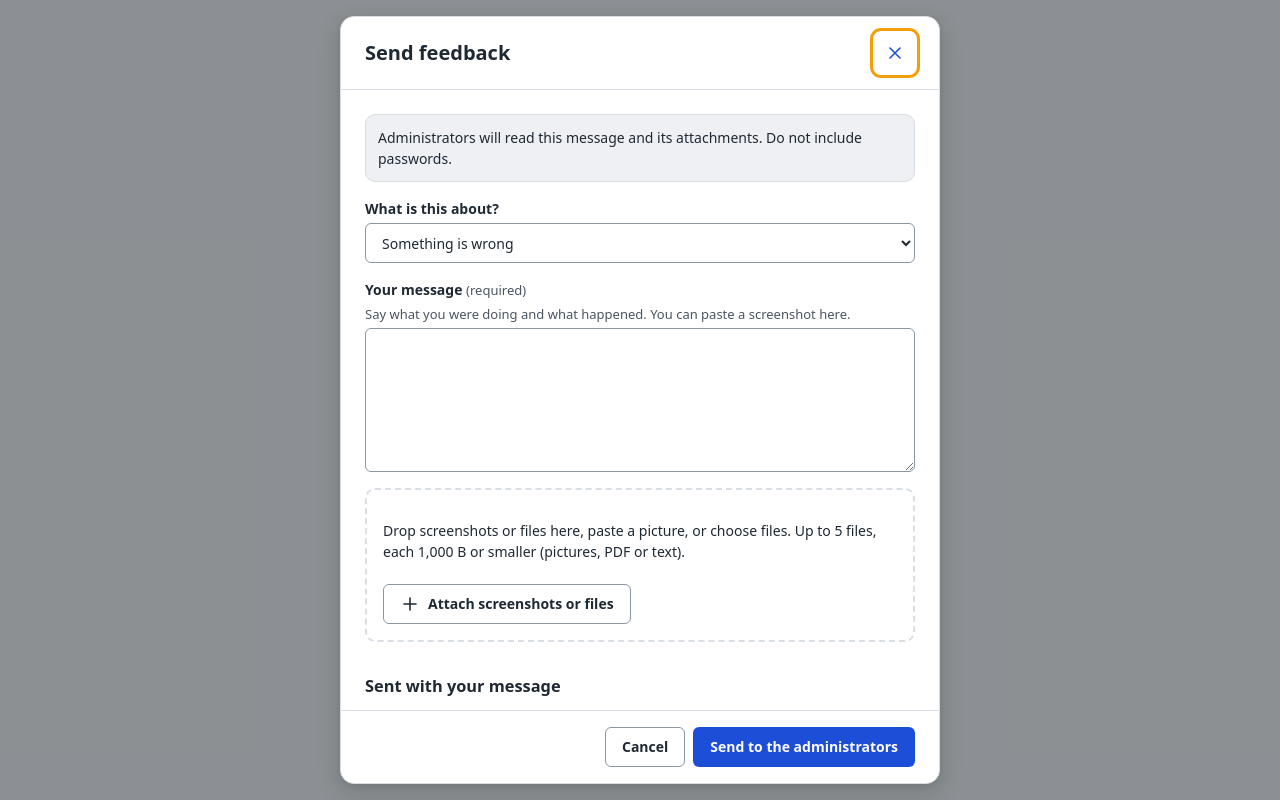
Scenario: feedback dialog › refuses an empty message without calling the server
The width and height of the screenshot is (1280, 800).
Click the button "Send to the administrators" at (804, 747), box left=693, top=727, right=915, bottom=767
(page scrolled)
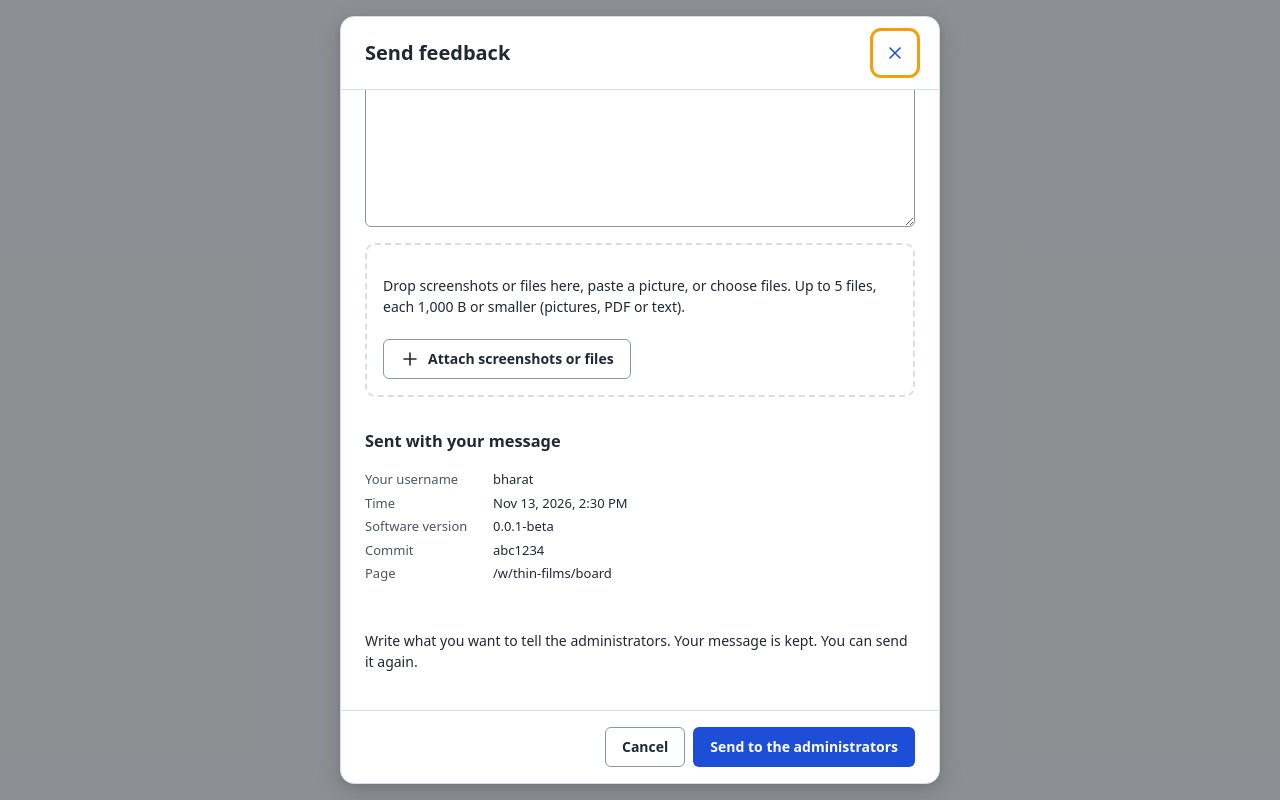
Expected: the message is shown, left=365, top=630, right=915, bottom=672
